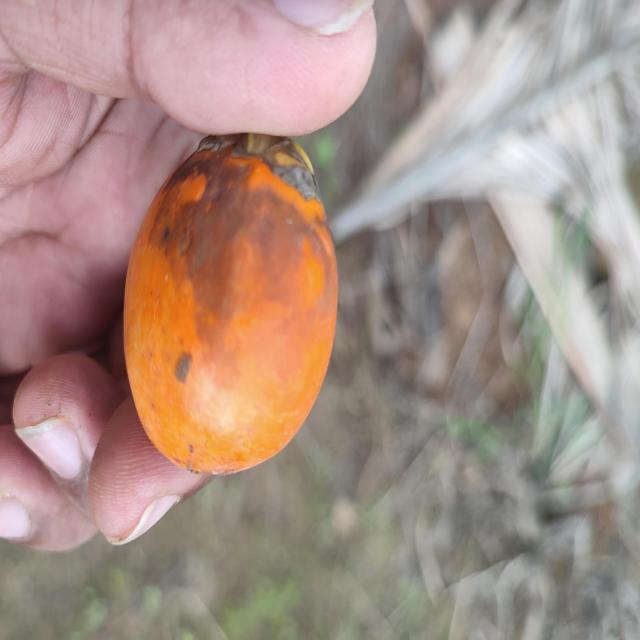good: (118, 134, 342, 479)
